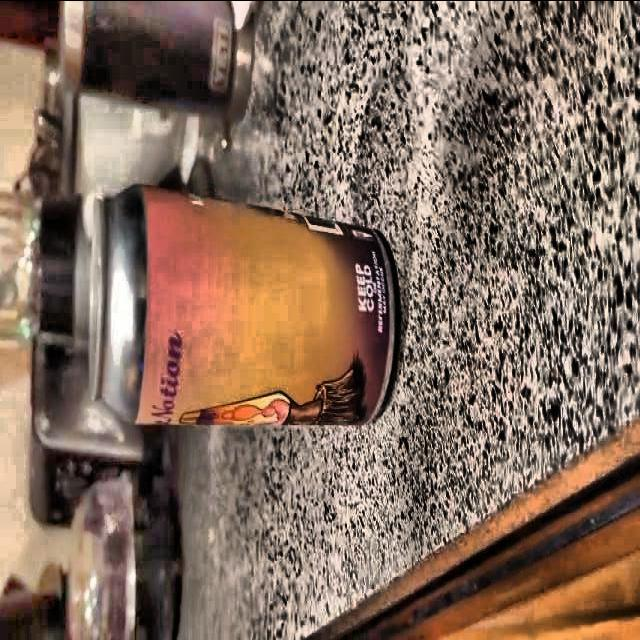litter: (75, 180, 412, 437)
